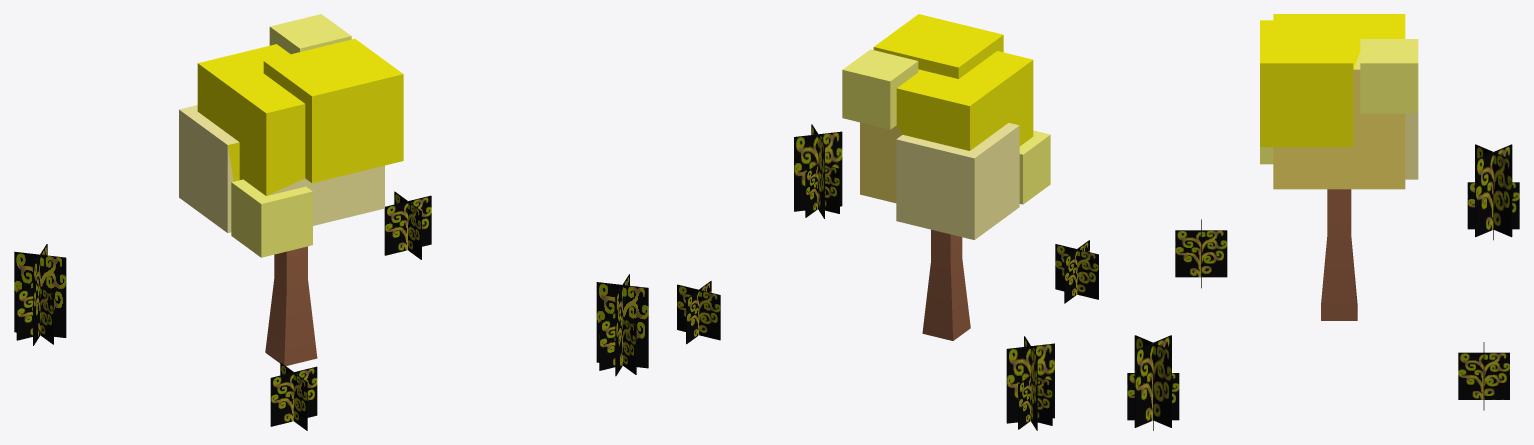
Rendered from Tree4_1.obj.
3 views of the same model, side by side, from view 1: azimuth 30°, elevation 25°; view 2: azimuth 150°, elevation 25°; view 3: azimuth 270°, elevation 25° (orthographic). The views are drawn at different scales.
Visible parts, largest first — view 1: tree_blocks, big_Cube.005, big2_Cube.007, minus.001_Cube.008, minus_Cube.001; view 2: tree_blocks, big_Cube.005, big2_Cube.007, minus.001_Cube.008, minus_Cube.001; view 3: tree_blocks, big2_Cube.007, big_Cube.005, minus.001_Cube.008, minus_Cube.001.
Part boxes in pixels (x1,y1,x2,y2): tree_blocks: (179, 14, 403, 365); big_Cube.005: (596, 274, 648, 376); big2_Cube.007: (14, 244, 66, 345); minus.001_Cube.008: (270, 362, 317, 430); minus_Cube.001: (384, 191, 431, 259); tree_blocks: (842, 14, 1050, 340); big_Cube.005: (794, 124, 842, 218); big2_Cube.007: (1006, 336, 1054, 430); minus.001_Cube.008: (1055, 240, 1098, 303); minus_Cube.001: (677, 281, 720, 344); tree_blocks: (1260, 14, 1418, 320); big2_Cube.007: (1467, 144, 1519, 240); big_Cube.005: (1127, 335, 1179, 430); minus.001_Cube.008: (1175, 219, 1227, 288); minus_Cube.001: (1458, 342, 1509, 410).
Size of the model in its own units: 63.28 by 39.32 by 49.31.
Materials: 2 (2 with a texture image).
